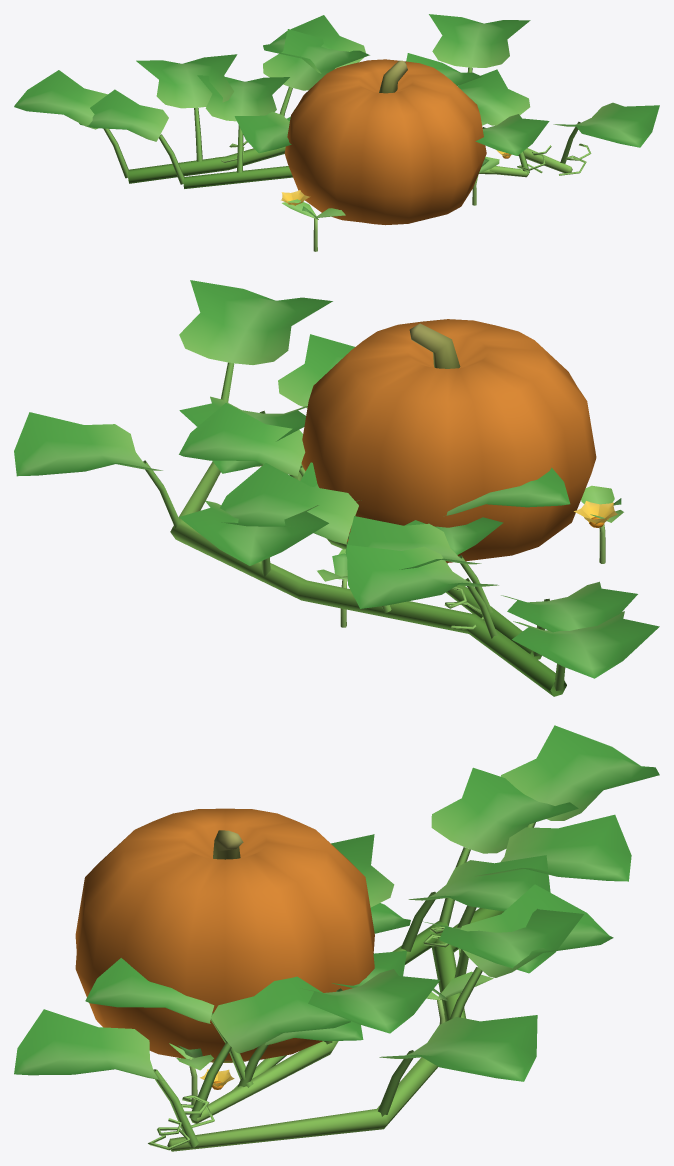
File: crop_pumpkin.glb
3 renders of one model, top to bottom at view 1: azimuth 30°, elevation 25°; view 2: azimuth 150°, elevation 25°; view 3: azimuth 270°, elevation 25°, orthographic. The views are drawn at different scales.
Visible parts, largest first — view 1: stage3, stage2, stage0; view 2: stage3, stage2, stage1, stage0; view 3: stage3, stage2, stage1, stage0.
Boxes of the visible parts, box(x1,y1,x2,y2) form: stage3: box(14, 14, 659, 225); stage2: box(79, 53, 551, 205); stage0: box(282, 109, 499, 251); stage3: box(14, 280, 659, 696); stage2: box(179, 334, 637, 659); stage1: box(212, 460, 503, 563); stage0: box(317, 485, 623, 627); stage3: box(14, 725, 659, 1151); stage2: box(85, 767, 578, 1127); stage1: box(200, 903, 410, 1090); stage0: box(169, 971, 493, 1108).
Bounding box in the file's own units: 1.58 × 0.4775 × 1.21.
